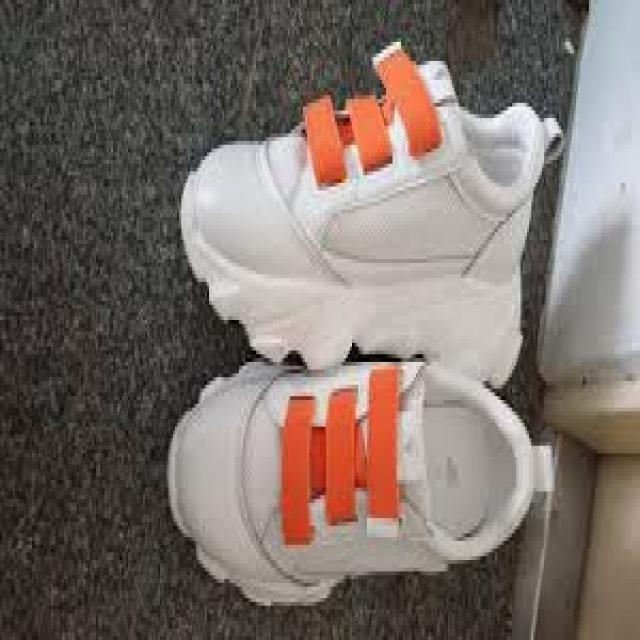shoe: (171, 57, 540, 385), (165, 363, 558, 610)
